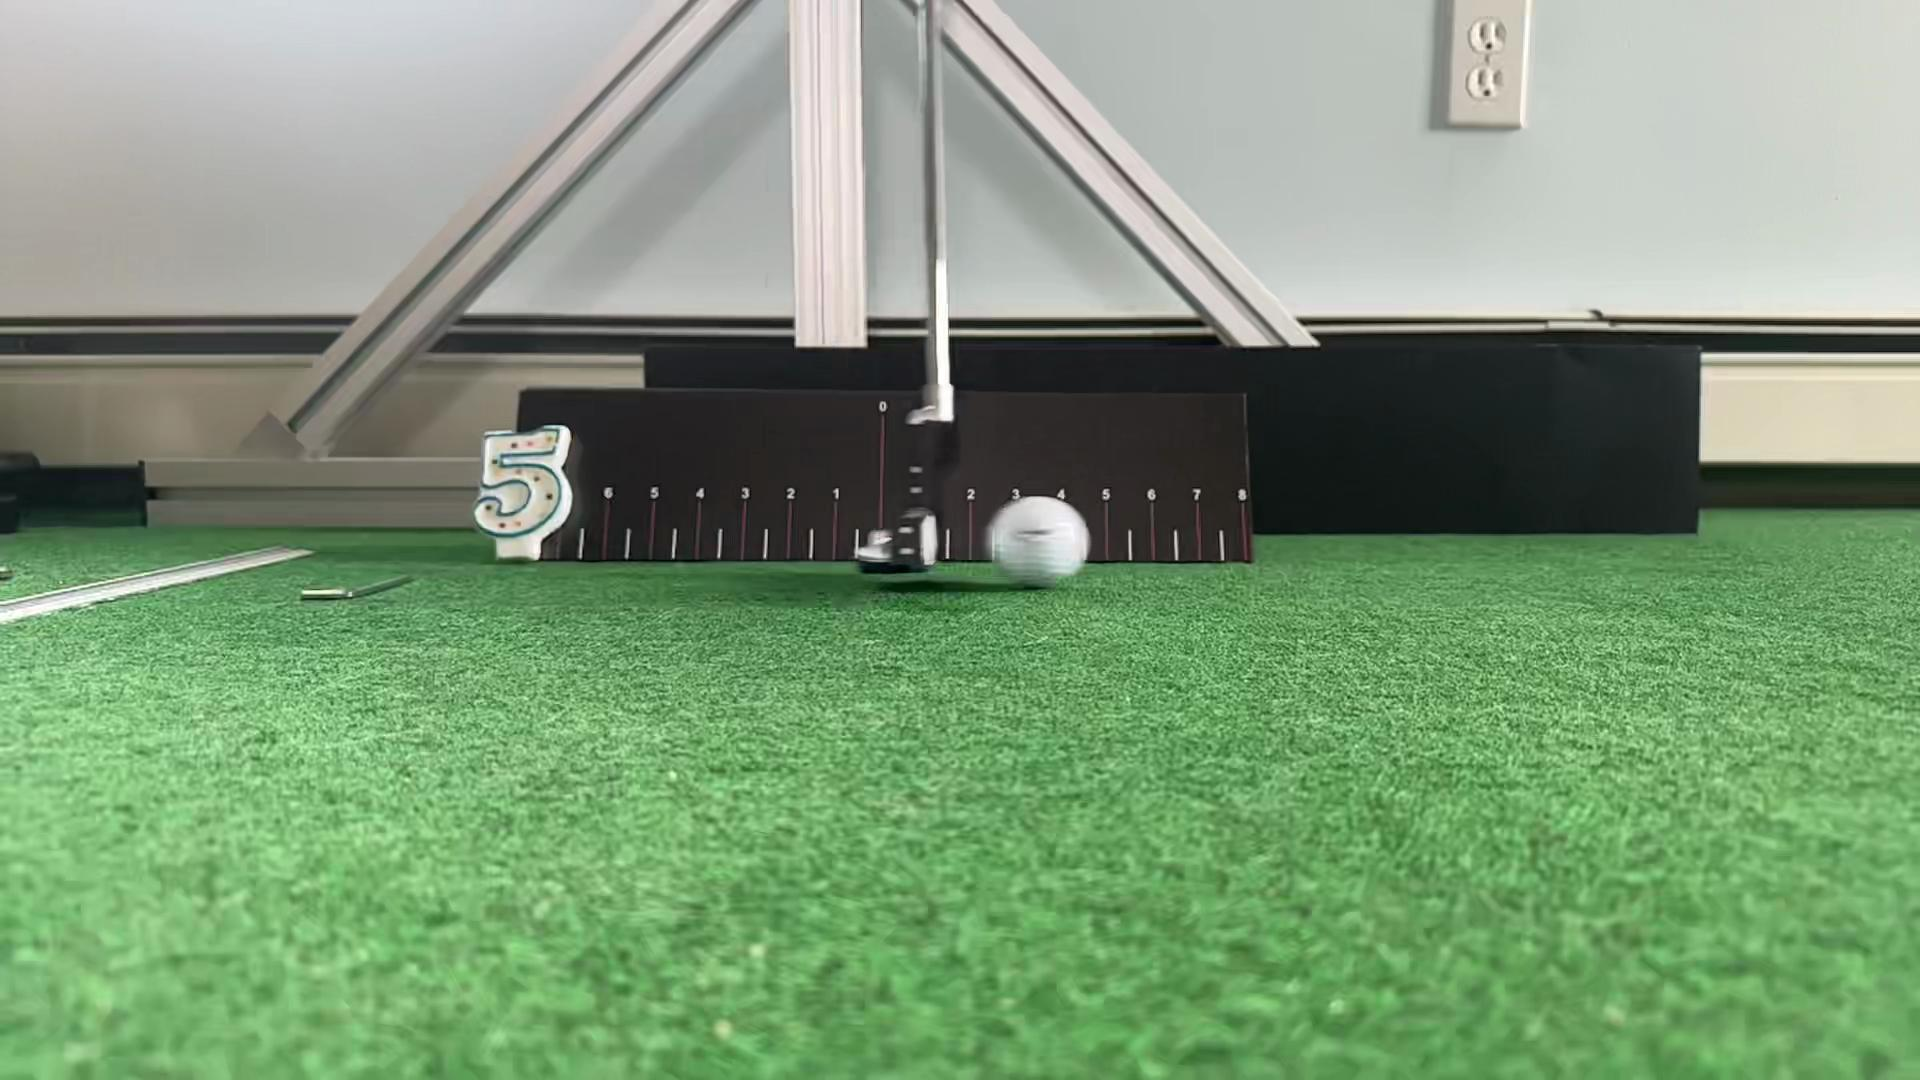golfball: (994, 496, 1087, 589)
